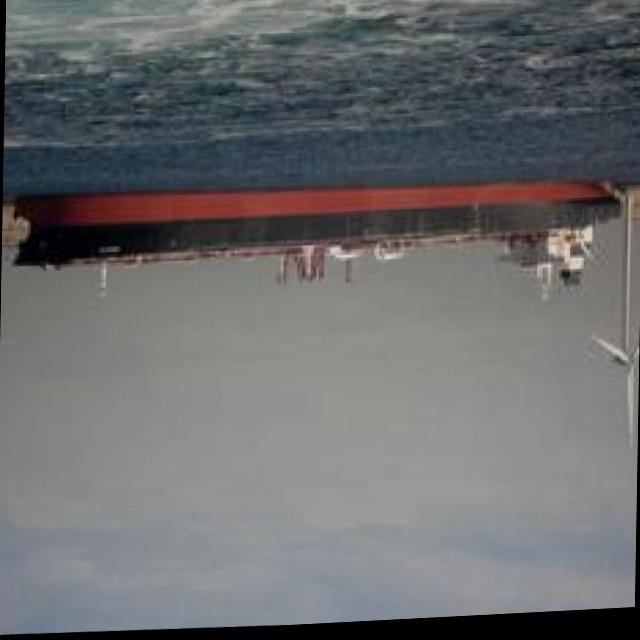ship2: (9, 186, 618, 309)
